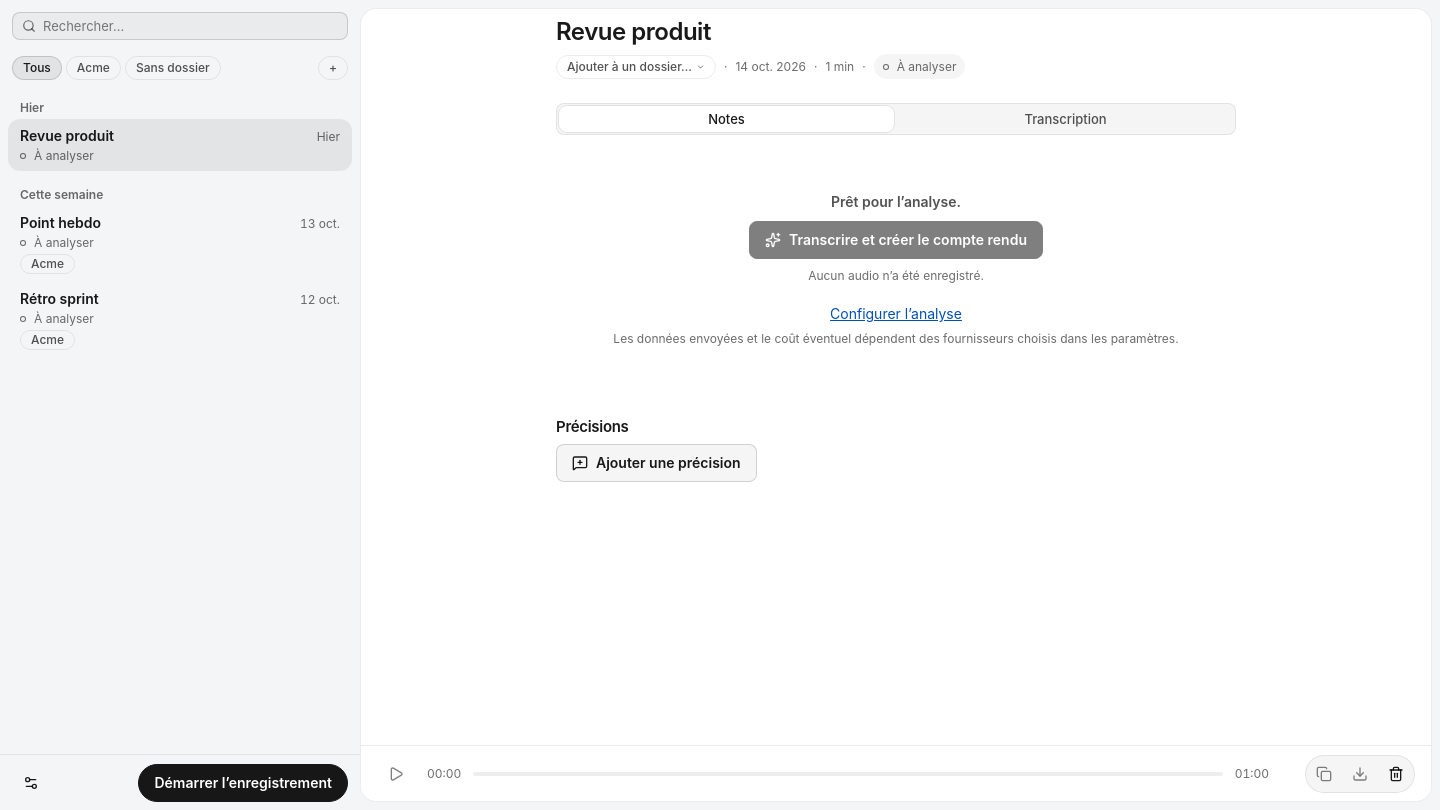
Test: After a deletion › selects the next visible meeting, not the most recent one
Click the option "Point hebdo 13 oct. À analyser Acme" at (60, 222), box [8, 206, 352, 282]
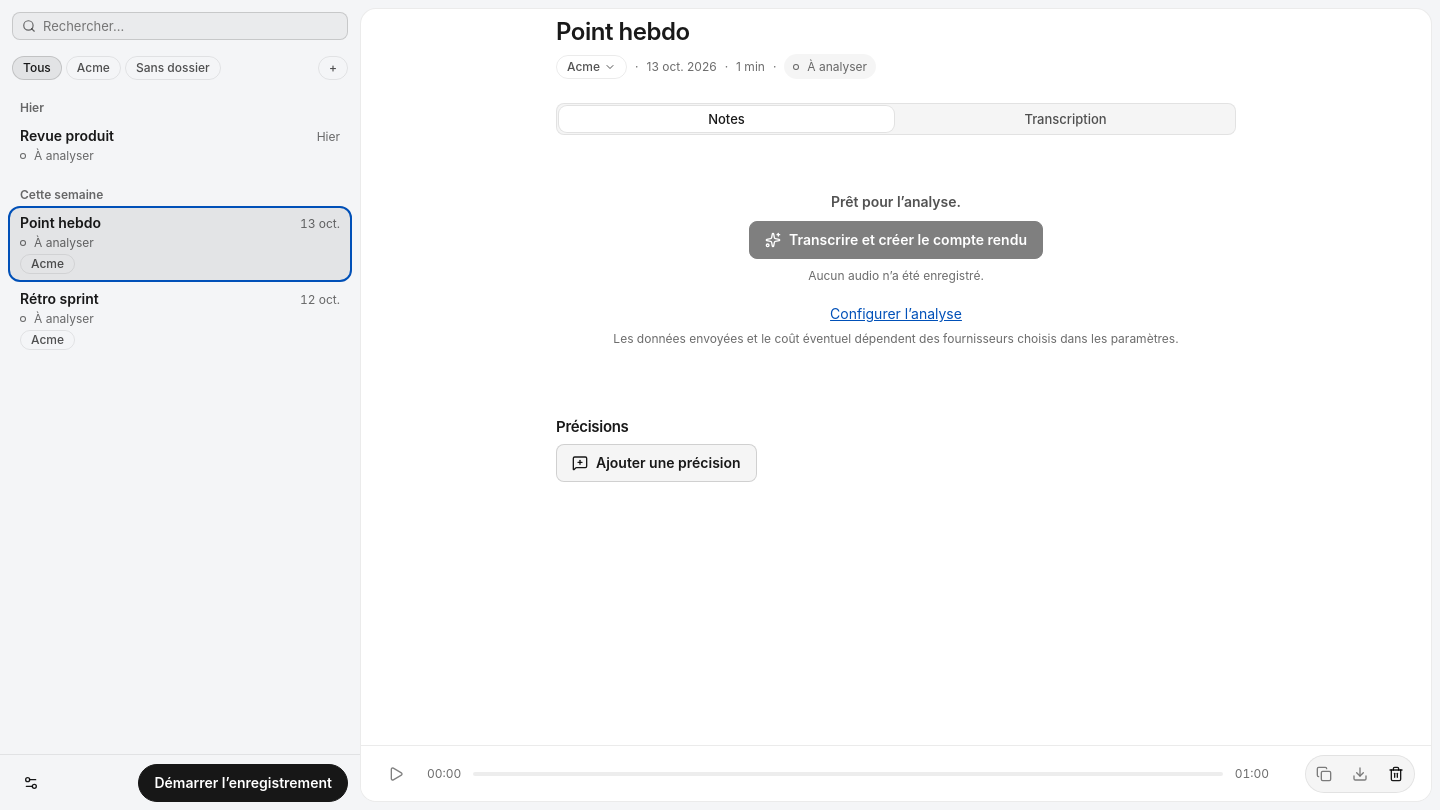
Click the button named "Supprimer la réunion" at (1396, 774), box [1380, 758, 1412, 790]
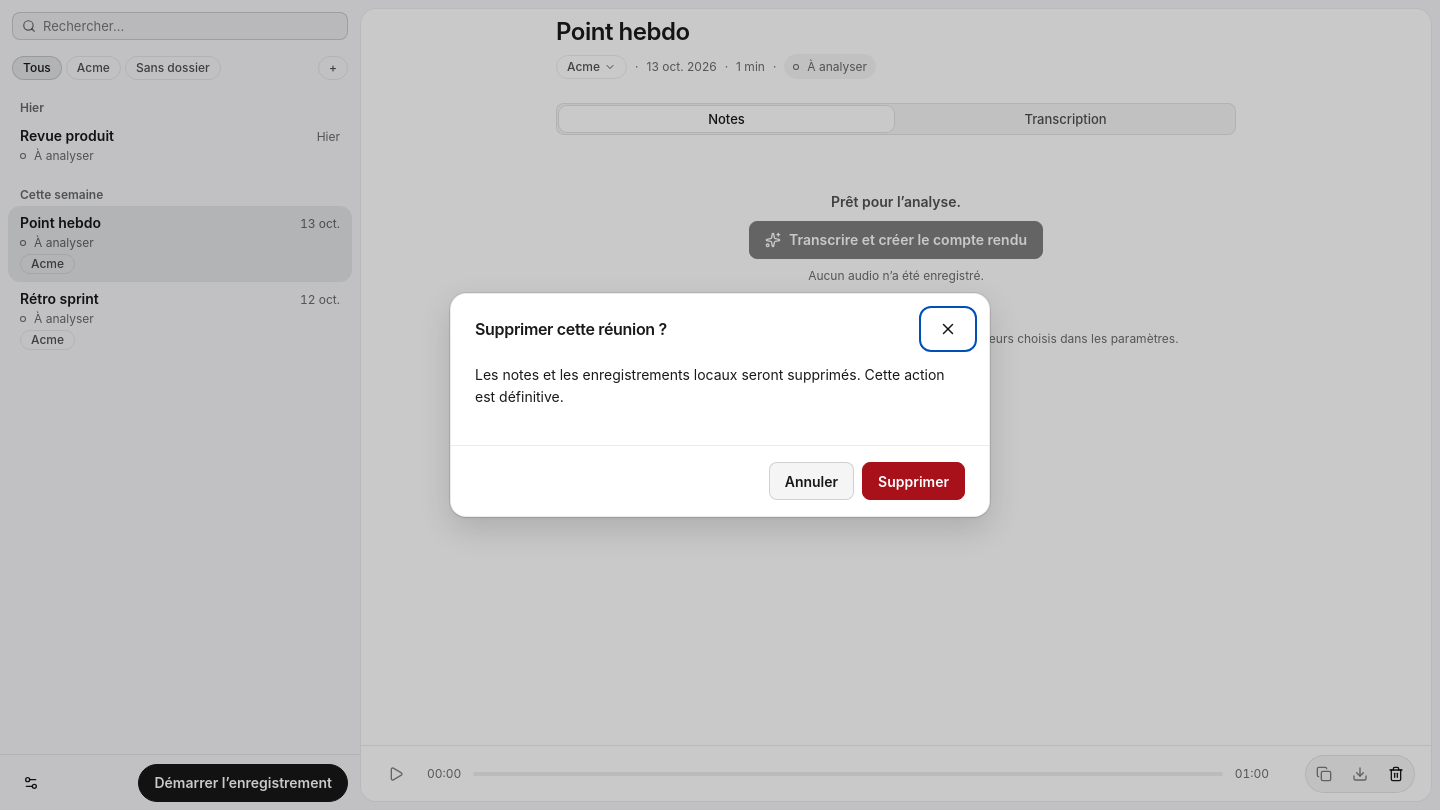
Click the button "Supprimer" at (914, 481), box [862, 462, 965, 500]
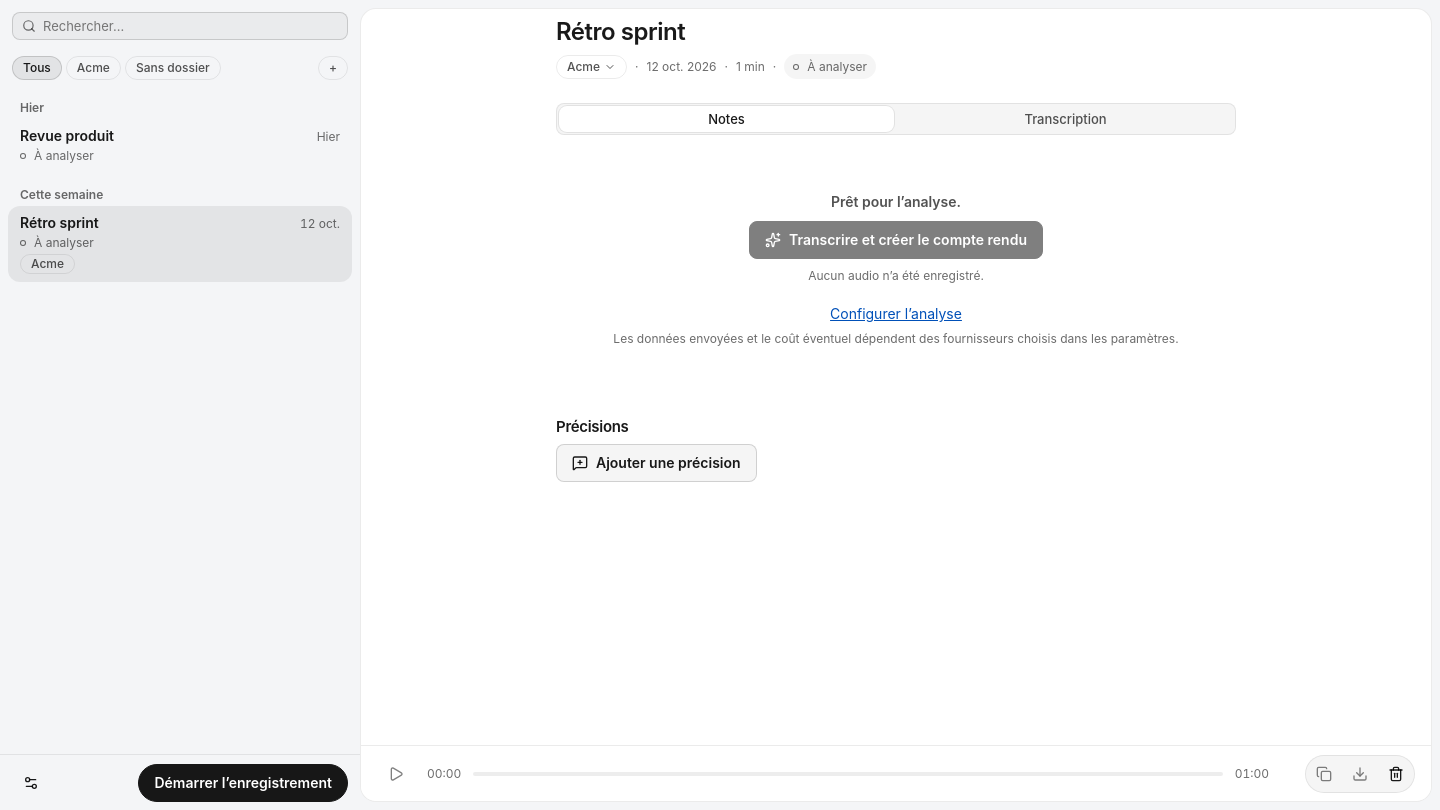
expect the heading "Rétro sprint" is shown: met, box [556, 17, 685, 46]
